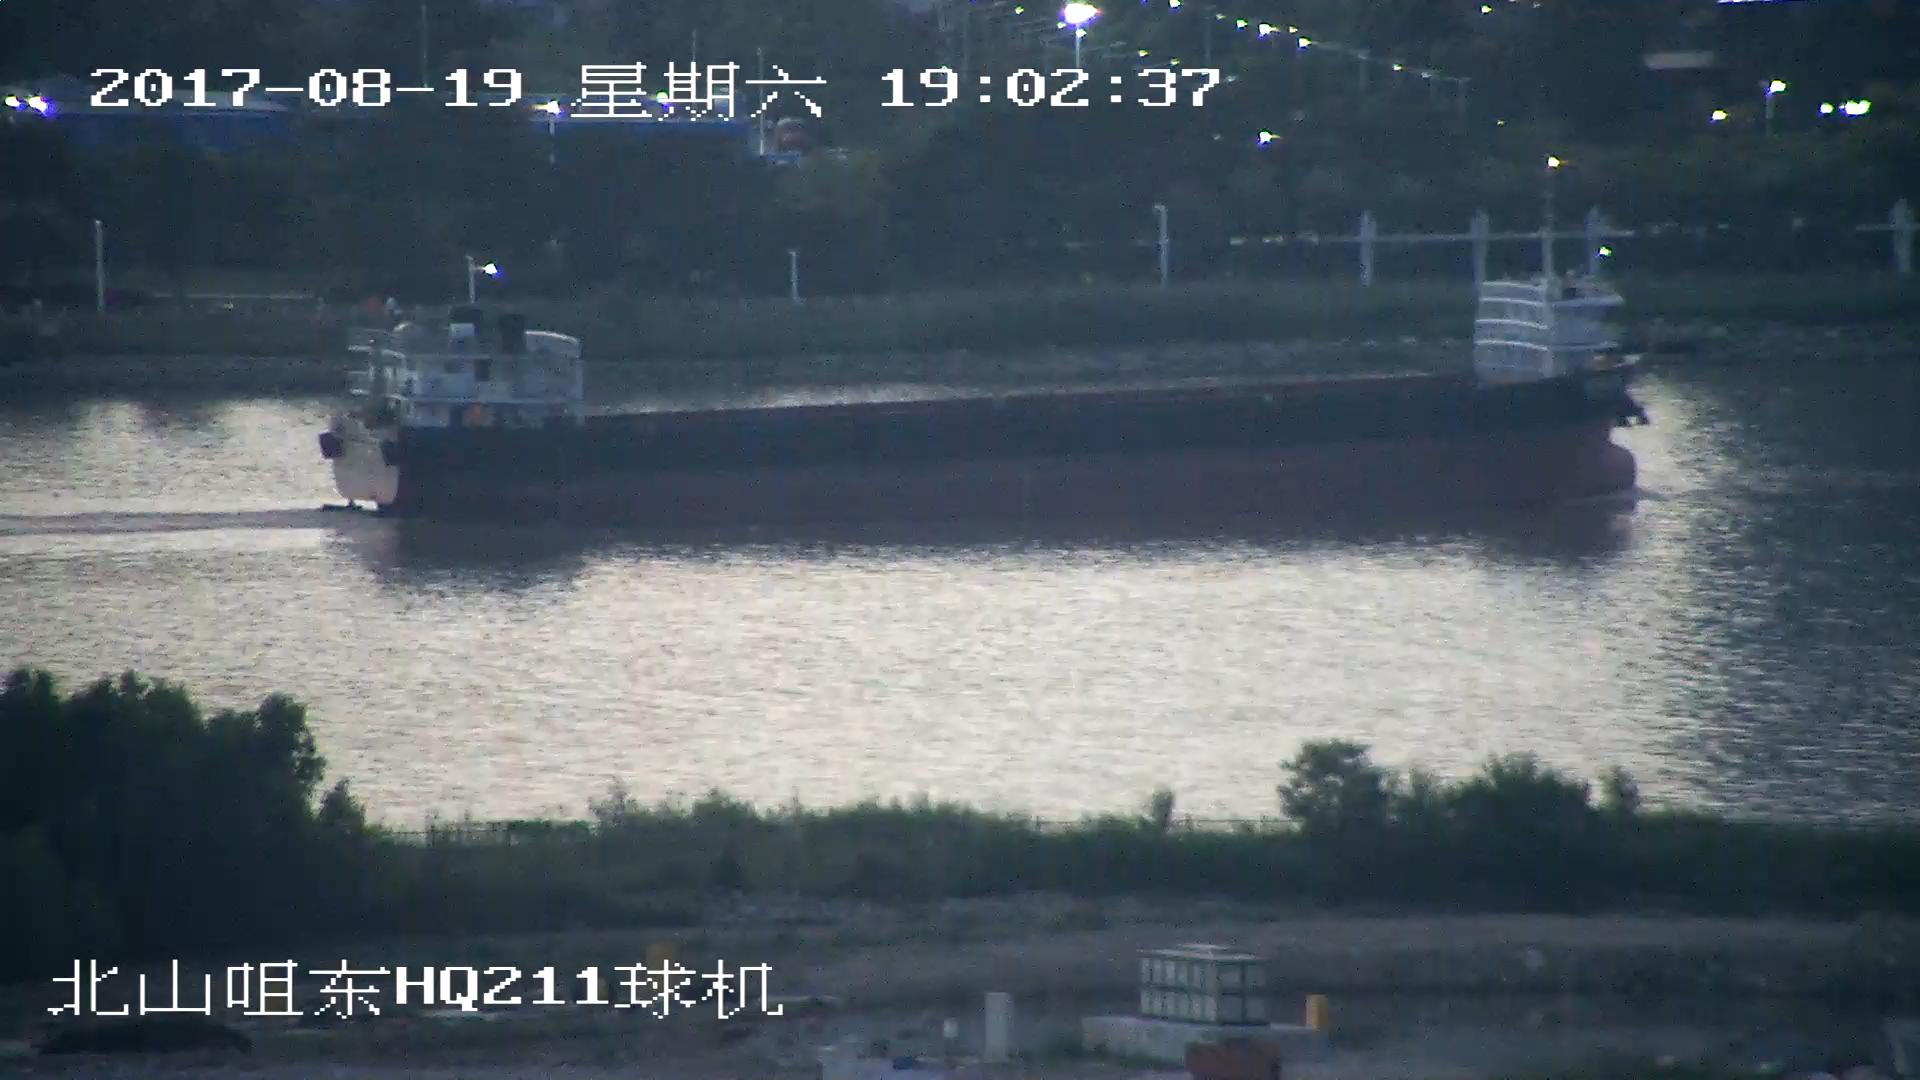general cargo ship: (327, 268, 1642, 513)
